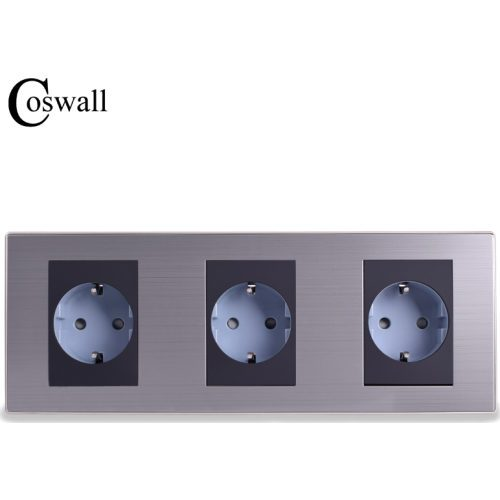raccoon: (51, 277, 134, 366), (210, 277, 292, 367), (368, 275, 449, 364)
